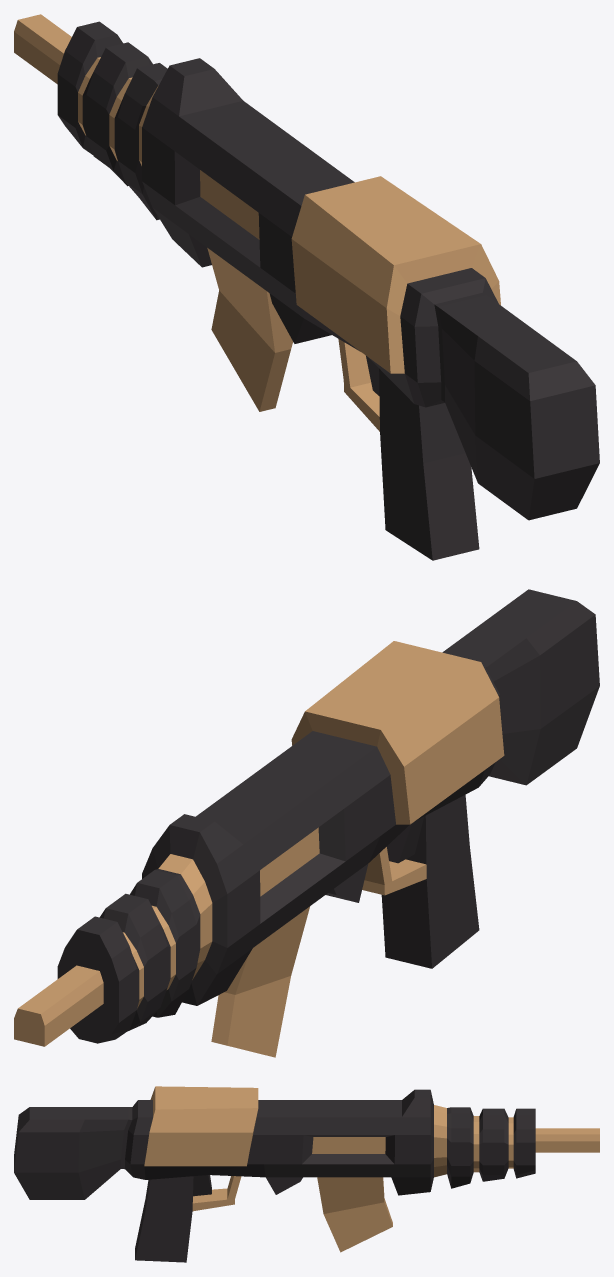
The model's file is pistol.fbx.
3 views of the same model, one above another, from view 1: azimuth 30°, elevation 25°; view 2: azimuth 150°, elevation 25°; view 3: azimuth 270°, elevation 25° (orthographic). The views are drawn at different scales.
Visible parts, largest first — view 1: Cube; view 2: Cube; view 3: Cube.
Boxes of the visible parts, x1,y1,x2,y2 form: Cube: (14,14,599,560); Cube: (14,589,599,1057); Cube: (14,1086,599,1262).
Bounding box in the file's own units: 175 × 439 × 1435.
